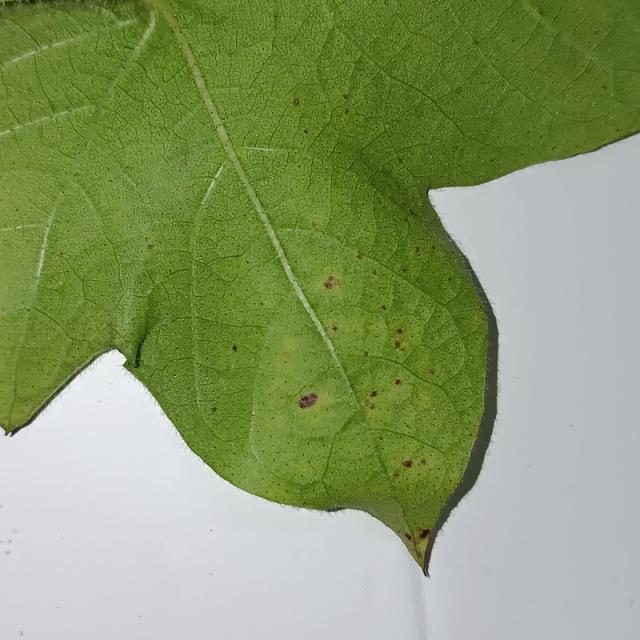Bacterial_Blight: (401, 528, 429, 570), (298, 386, 320, 415), (398, 456, 426, 471), (392, 329, 408, 353), (322, 275, 340, 290), (363, 392, 378, 410), (325, 322, 339, 333), (419, 528, 431, 540), (402, 459, 413, 468), (292, 98, 300, 106), (210, 406, 218, 414), (404, 533, 412, 541), (323, 282, 332, 289), (310, 393, 318, 400), (394, 379, 402, 386), (357, 251, 364, 259), (370, 390, 377, 397), (311, 222, 318, 229), (414, 246, 421, 253), (232, 345, 238, 352), (396, 328, 403, 334), (381, 304, 387, 311), (343, 93, 349, 100), (429, 368, 436, 374), (393, 471, 400, 477), (147, 244, 153, 250), (344, 108, 349, 114), (303, 128, 308, 134)
Cotton: (0, 0, 639, 571)
